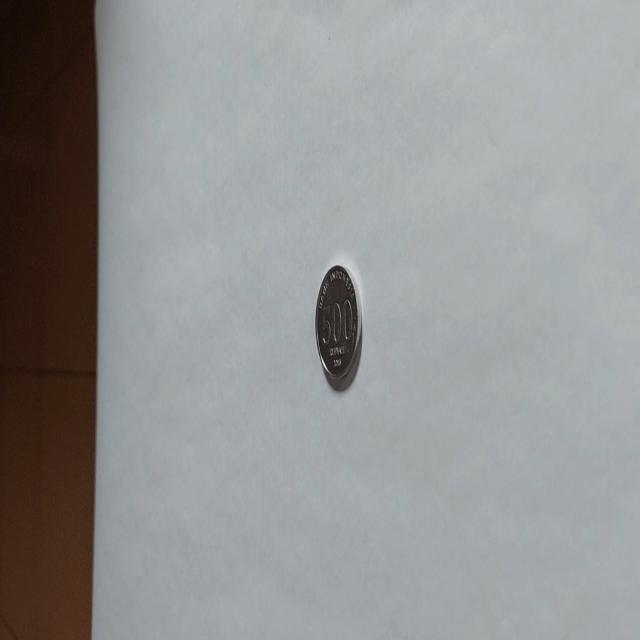lima ratus rupiah: (314, 263, 362, 391)
